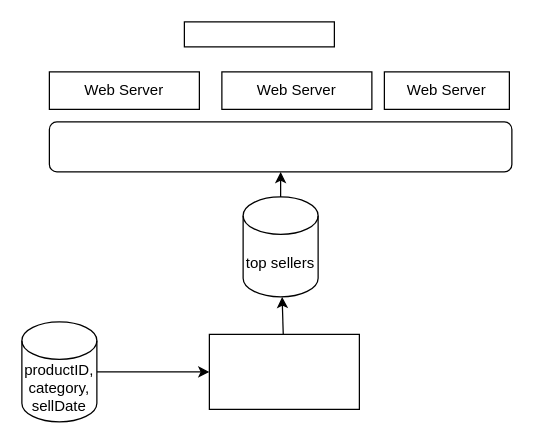
Some shapes in this 534 by 444 pixel diagram are drawn without their labels. The shapes that lost their labels are listed below. From the top down, each one's centre as x and y in pixels, then its label:
(x=258, y=34): Load Balancer
(x=280, y=146): Distributed Cache
(x=283, y=371): Compute top sellers - distributed batch
